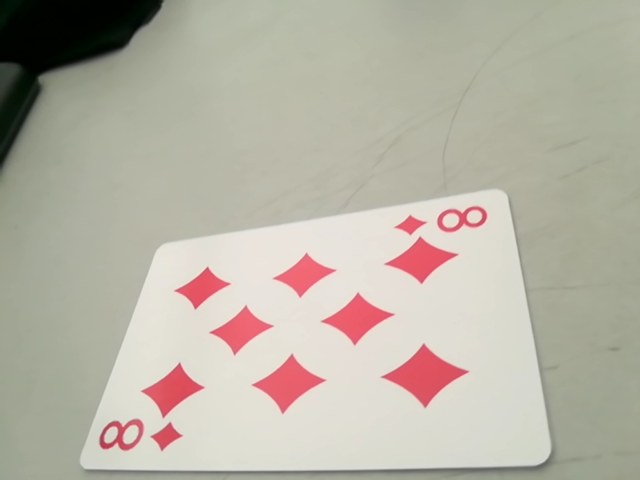fk 8: (93, 412, 185, 461), (396, 201, 497, 240)
